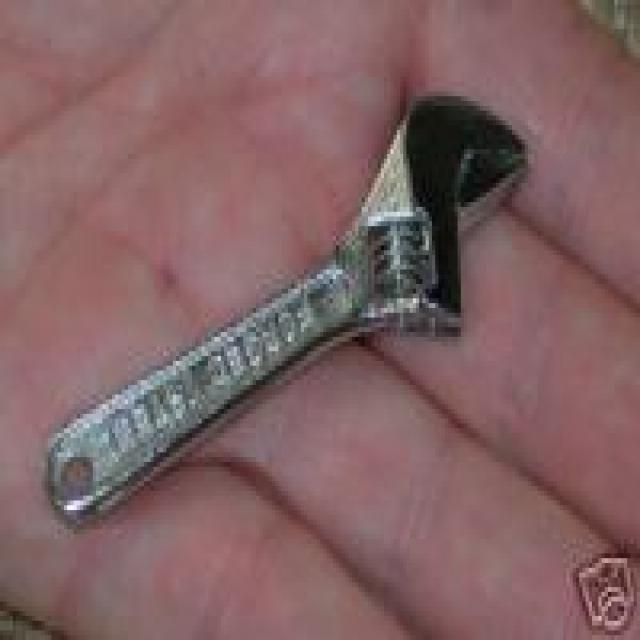wrench: (39, 80, 542, 532)
